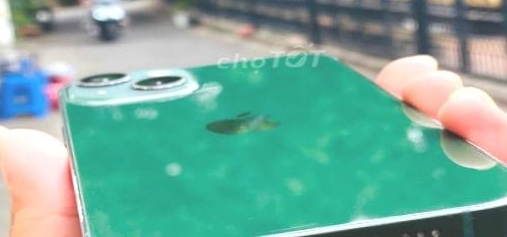scratch: (433, 114, 507, 222), (65, 159, 153, 237)
